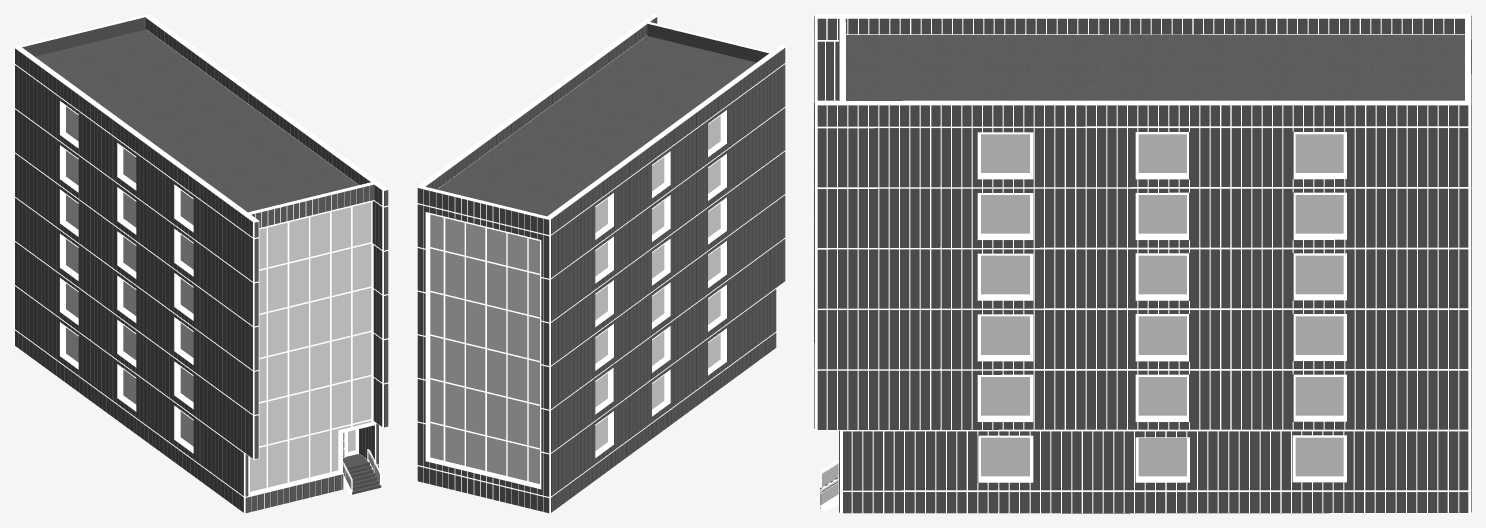
The model's file is building_tower_skyscraper_modern_glass_compressed.glb.
The picture shows the model from 3 angles, left to right: view 1: azimuth 30°, elevation 25°; view 2: azimuth 150°, elevation 25°; view 3: azimuth 270°, elevation 25°; orthographic projection. The views are drawn at different scales.
Visible parts, largest first — view 1: tile wall 01_face.001_23, glass curtain wall_10, roof 30cm.001_21, tile wall 01_mullion border.001_24, frame b curtain wall_5, frame curtain wall_6, culomn.001_1, wall exterior 20cm.002_27, tread stair.002_25; view 2: tile wall 01_face.001_23, glass curtain wall_10, roof 30cm.001_21, tile wall 01_mullion border.001_24, frame b curtain wall_5, frame curtain wall_6, culomn.001_1, wall exterior 20cm.002_27; view 3: tile wall 01_face.001_23, tile wall 01_mullion border.001_24, roof 30cm.001_21, glass curtain wall_10, frame b curtain wall_5, culomn.001_1.
Part boxes in pixels (x1,y1,x2,y2): tile wall 01_face.001_23: (15, 18, 388, 513); glass curtain wall_10: (66, 106, 379, 491); roof 30cm.001_21: (35, 29, 358, 212); tile wall 01_mullion border.001_24: (14, 17, 388, 513); frame b curtain wall_5: (60, 102, 375, 495); frame curtain wall_6: (259, 207, 371, 488); culomn.001_1: (15, 14, 388, 459); wall exterior 20cm.002_27: (22, 17, 359, 456); tread stair.002_25: (344, 461, 381, 492); tile wall 01_face.001_23: (417, 17, 785, 513); glass curtain wall_10: (430, 116, 720, 483); roof 30cm.001_21: (437, 36, 756, 216); tile wall 01_mullion border.001_24: (417, 15, 785, 513); frame b curtain wall_5: (426, 111, 725, 487); frame curtain wall_6: (429, 218, 539, 481); culomn.001_1: (417, 14, 785, 287); wall exterior 20cm.002_27: (647, 23, 768, 62); tile wall 01_face.001_23: (814, 15, 1471, 513); tile wall 01_mullion border.001_24: (814, 17, 1471, 513); roof 30cm.001_21: (846, 34, 1464, 124); glass curtain wall_10: (822, 134, 1343, 504); frame b curtain wall_5: (978, 132, 1345, 481); culomn.001_1: (814, 14, 1471, 430).
Bounding box in the file's own units: 10.29 × 21.66 × 31.46.
5 materials, 1 textured.
